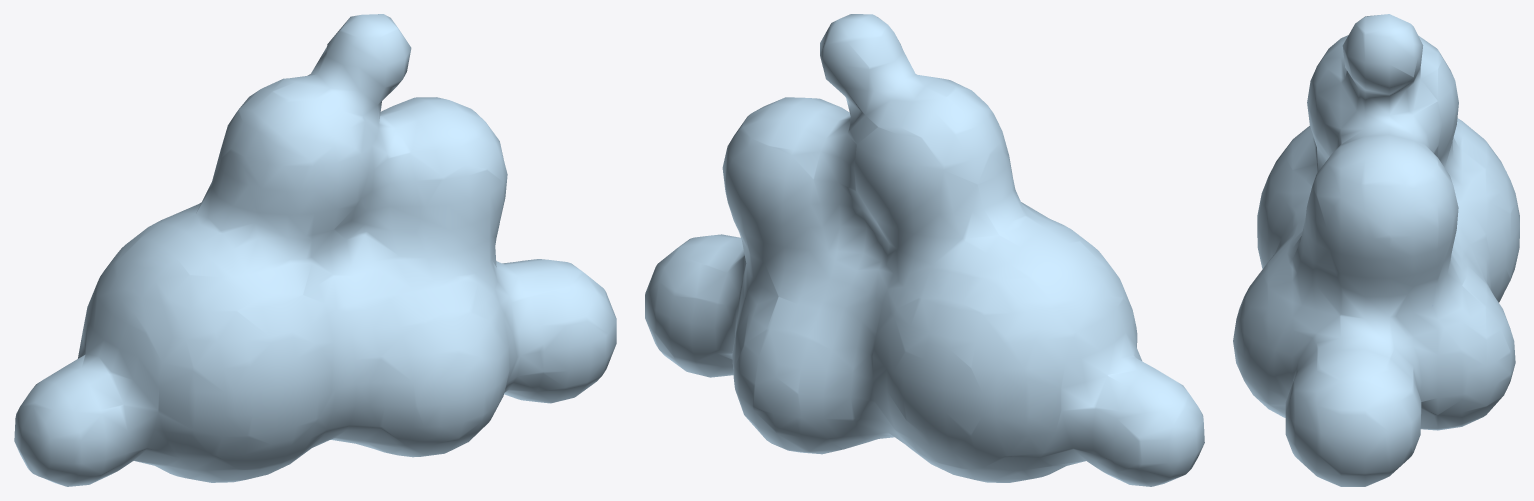
The model's file is cloud.glb.
3 renders of one model, left to right at view 1: azimuth 30°, elevation 25°; view 2: azimuth 150°, elevation 25°; view 3: azimuth 270°, elevation 25°, orthographic. The views are drawn at different scales.
Visible parts, largest first — view 1: Mball.009; view 2: Mball.009; view 3: Mball.009.
Boxes of the visible parts, x1,y1,x2,y2 form: Mball.009: [14, 14, 616, 486]; Mball.009: [645, 14, 1204, 486]; Mball.009: [1233, 14, 1519, 486].
Size of the model in its own units: 10.12 by 7.18 by 4.65.
Materials: 1 (1 with a texture image).
